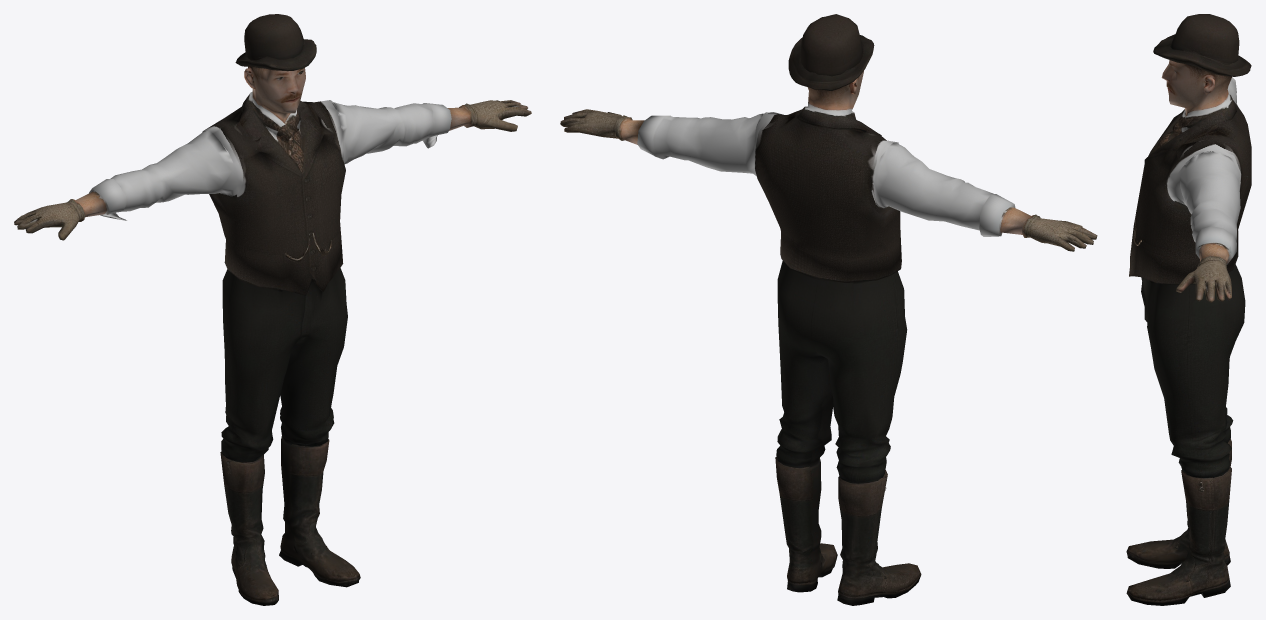
File: npc bowler hat man.fbx
The picture shows the model from 3 angles, left to right: view 1: azimuth 30°, elevation 25°; view 2: azimuth 150°, elevation 25°; view 3: azimuth 270°, elevation 25°; orthographic projection. The views are drawn at different scales.
Parts seen in each view (by area): view 1: tripo_node_8b713284; view 2: tripo_node_8b713284; view 3: tripo_node_8b713284.
Part boxes in pixels (x1,y1,x2,y2): tripo_node_8b713284: (14,14,531,605); tripo_node_8b713284: (560,14,1097,605); tripo_node_8b713284: (1126,14,1251,605).
Bounding box in the file's own units: 96.29 × 20.12 × 99.8.
Materials: 1 (1 with a texture image).
